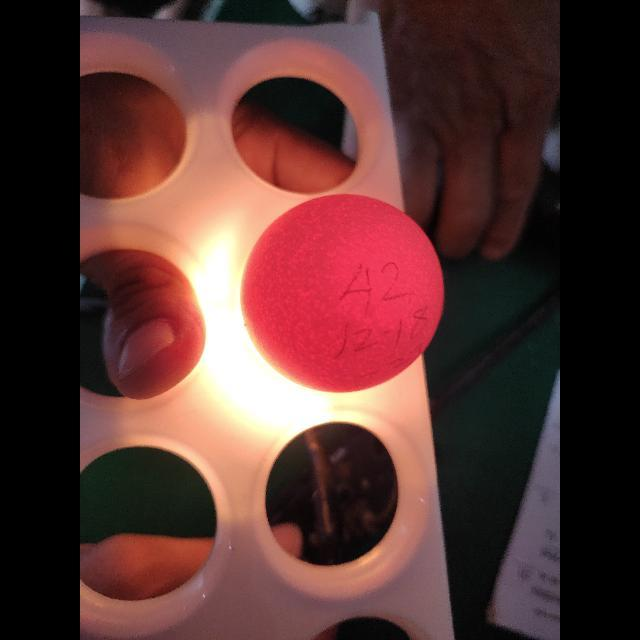A - Good: (234, 191, 448, 397)
